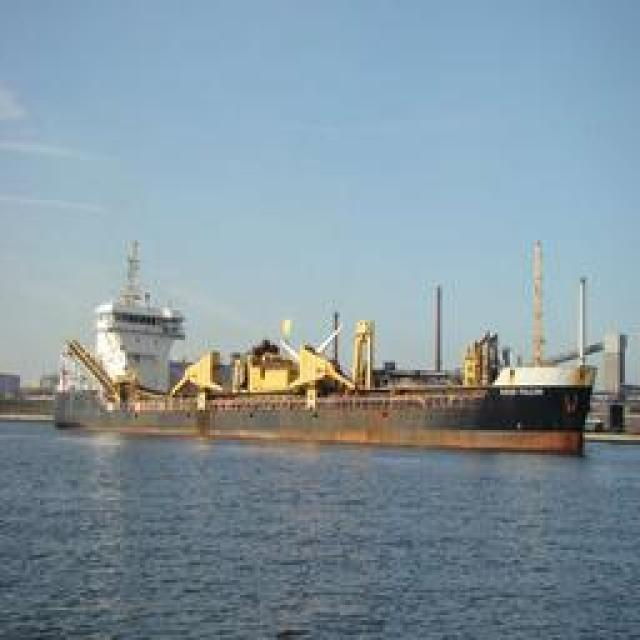ship2: (52, 237, 594, 453)
